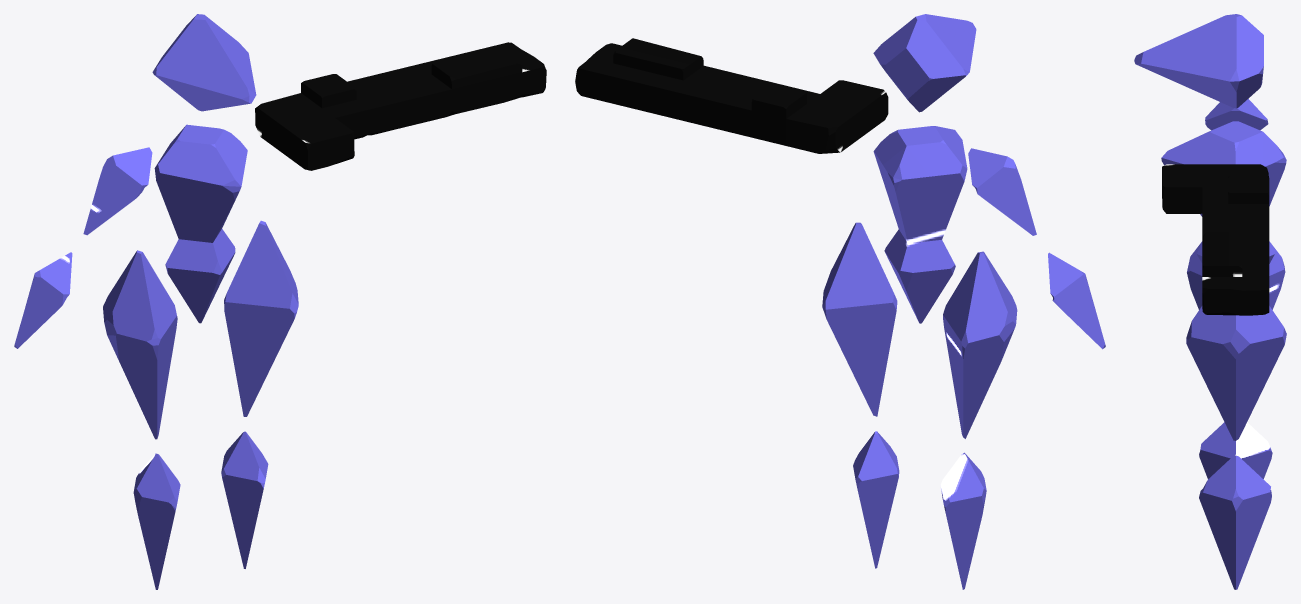
The model's file is mc_uvs_texture_test.fbx.
The picture shows the model from 3 angles, left to right: view 1: azimuth 30°, elevation 25°; view 2: azimuth 150°, elevation 25°; view 3: azimuth 270°, elevation 25°; orthographic projection.
Parts seen in each view (by area): view 1: mc; view 2: mc; view 3: mc.
Part boxes in pixels (box(x1,y1,x2,y2)): mc: box(14, 14, 546, 589); mc: box(575, 14, 1105, 589); mc: box(1134, 14, 1286, 589).
Size of the model in its own units: 153 by 160 by 40.11.
